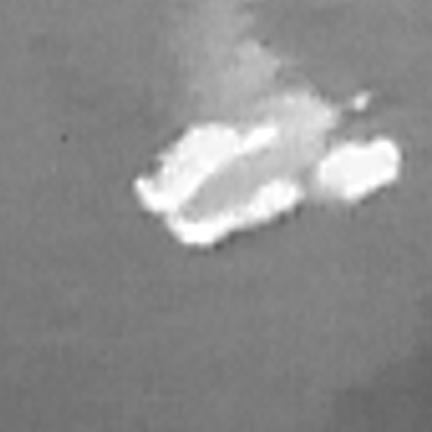flukeprints: (136, 89, 340, 245), (319, 139, 401, 201)
